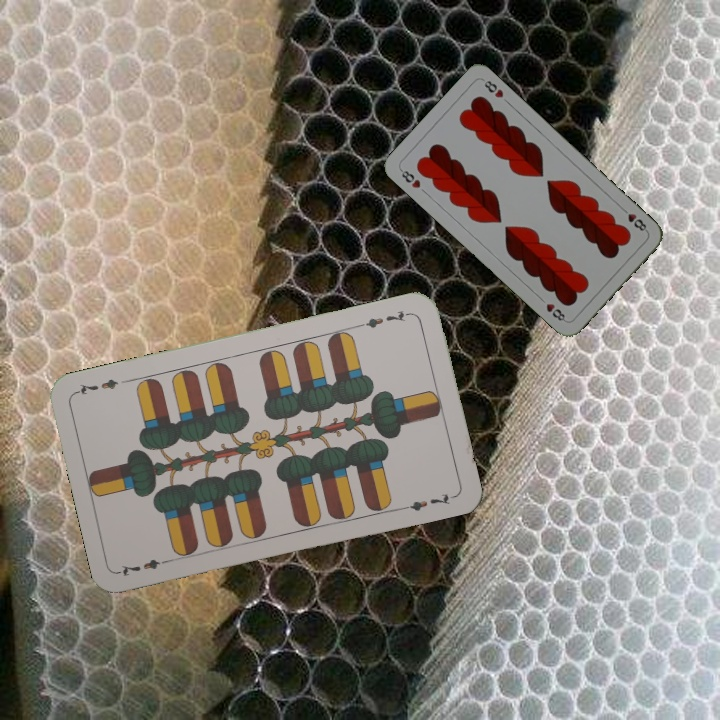E7: (355, 306, 414, 331), (116, 554, 174, 579)
H8: (617, 204, 650, 234), (396, 165, 423, 191)
